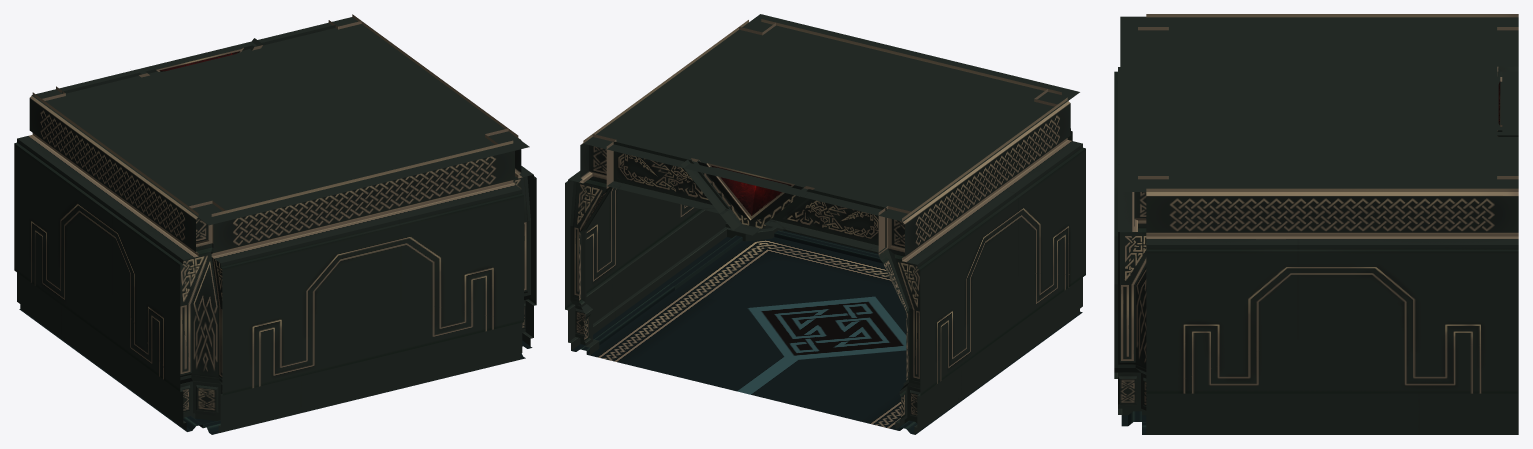
File: CulDeSac.fbx
3 renders of one model, left to right at view 1: azimuth 30°, elevation 25°; view 2: azimuth 150°, elevation 25°; view 3: azimuth 270°, elevation 25°, orthographic. The views are drawn at different scales.
Parts seen in each view (by area): view 1: CulDeSac; view 2: CulDeSac; view 3: CulDeSac.
Boxes of the visible parts, x1,y1,x2,y2 form: CulDeSac: [14, 14, 536, 434]; CulDeSac: [565, 14, 1085, 434]; CulDeSac: [1114, 14, 1518, 434].
Size of what is drawn, in the model's own units: 6.98 by 4 by 6.12.
1 material, 1 textured.
